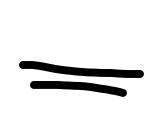eqv: (15, 57, 147, 99)
